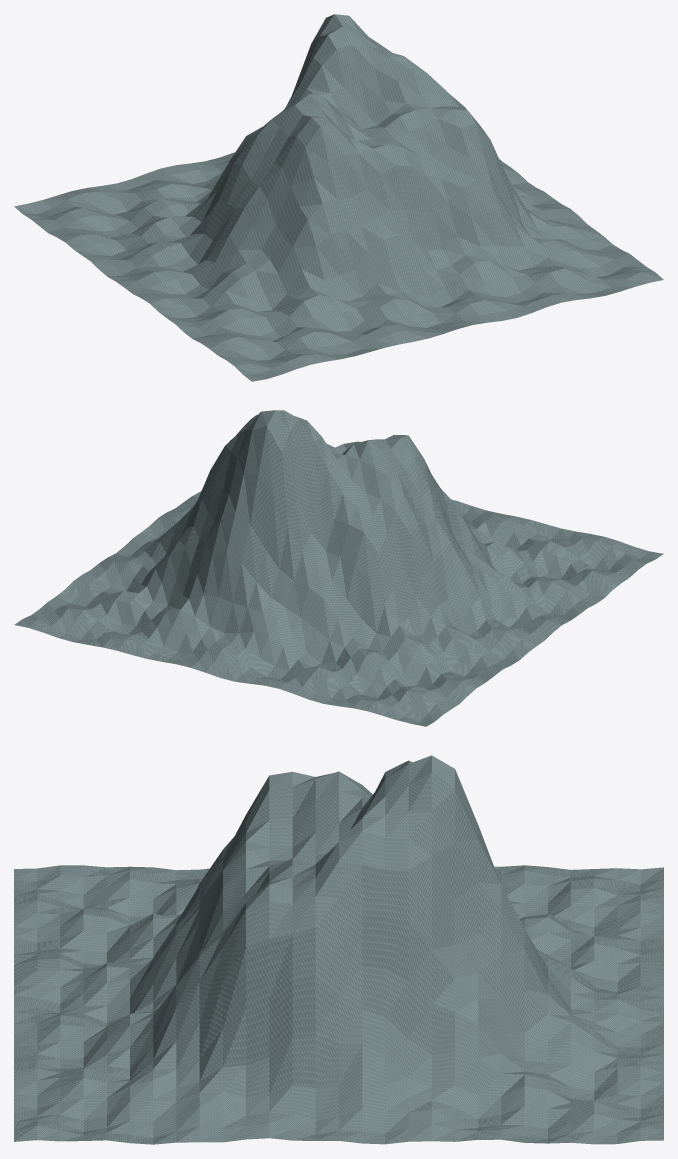
The model's file is distant_mountain_03.glb.
3 renders of one model, top to bottom at view 1: azimuth 30°, elevation 25°; view 2: azimuth 150°, elevation 25°; view 3: azimuth 270°, elevation 25°, orthographic. The views are drawn at different scales.
Parts seen in each view (by area): view 1: massif; view 2: massif; view 3: massif.
Part boxes in pixels (x1=…): massif: x1=14, y1=14, x2=663, y2=381; massif: x1=14, y1=410, x2=663, y2=726; massif: x1=14, y1=755, x2=663, y2=1144.
Bounding box in the file's own units: 220 × 105 × 220.
Materials: 1 (1 with a texture image).
